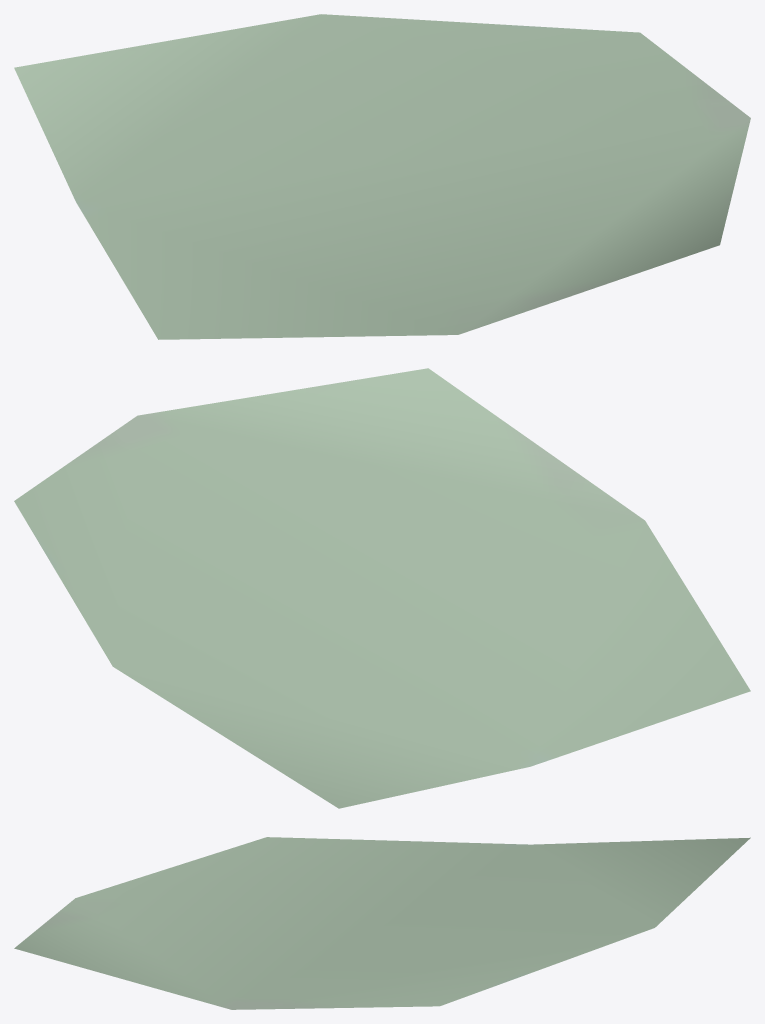
Rendered from TROLLHOLE02_HOLECAP169.fbx.
3 views of the same model, one above another, from view 1: azimuth 30°, elevation 25°; view 2: azimuth 150°, elevation 25°; view 3: azimuth 270°, elevation 25° (orthographic). The views are drawn at different scales.
Visible parts, largest first — view 1: TROLLHOLE02_HOLECAP169; view 2: TROLLHOLE02_HOLECAP169; view 3: TROLLHOLE02_HOLECAP169.
Part boxes in pixels (x1=…): TROLLHOLE02_HOLECAP169: x1=14, y1=14, x2=750, y2=339; TROLLHOLE02_HOLECAP169: x1=14, y1=368, x2=750, y2=808; TROLLHOLE02_HOLECAP169: x1=14, y1=837, x2=750, y2=1009.
Size of the model in its own units: 32403 by 5364 by 38452.
Materials: 1 (1 with a texture image).
